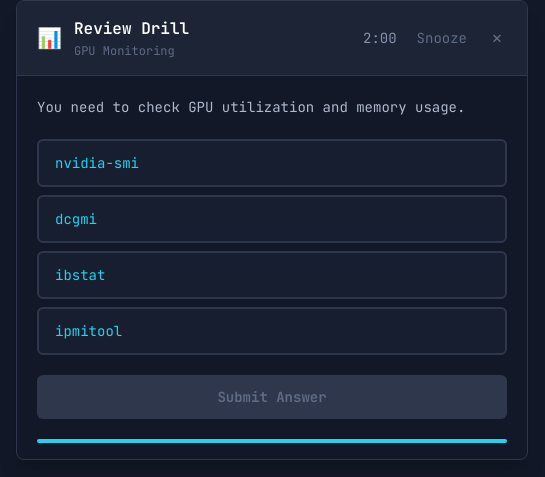
SpacedReviewDrill - Snooze functionality › opens snooze menu when clicked
The image size is (545, 477).
Click the button "Snooze" at (442, 38), box [409,24,475,52]
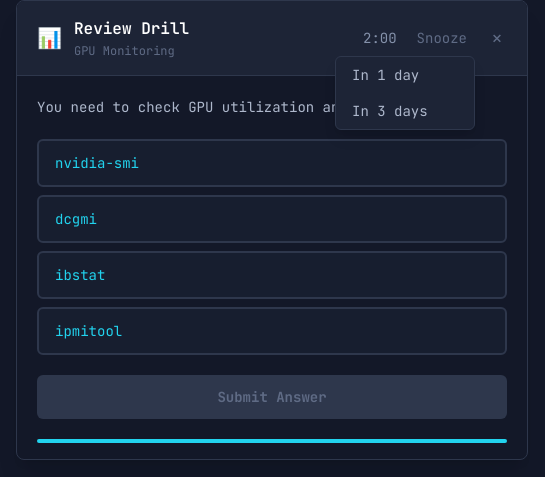
Check: the button "In 1 day" is shown, box [336,57,474,93]
Check: the button "In 3 days" is shown, box [336,93,474,129]
